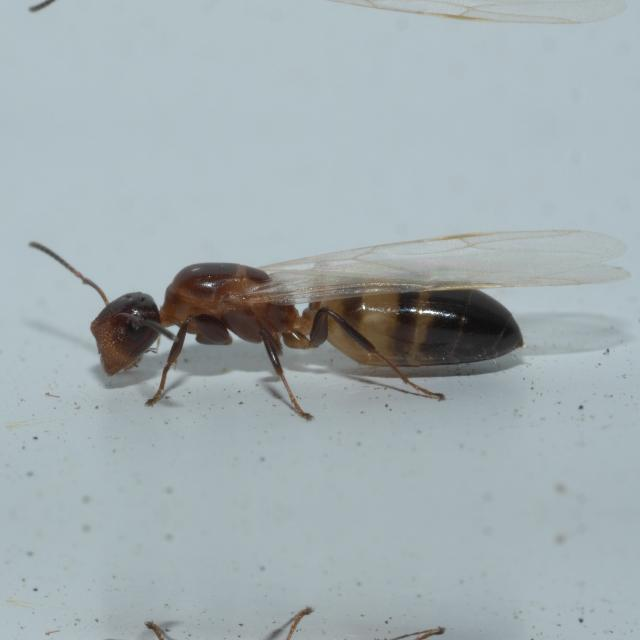Colobopsis: (32, 221, 568, 409)
